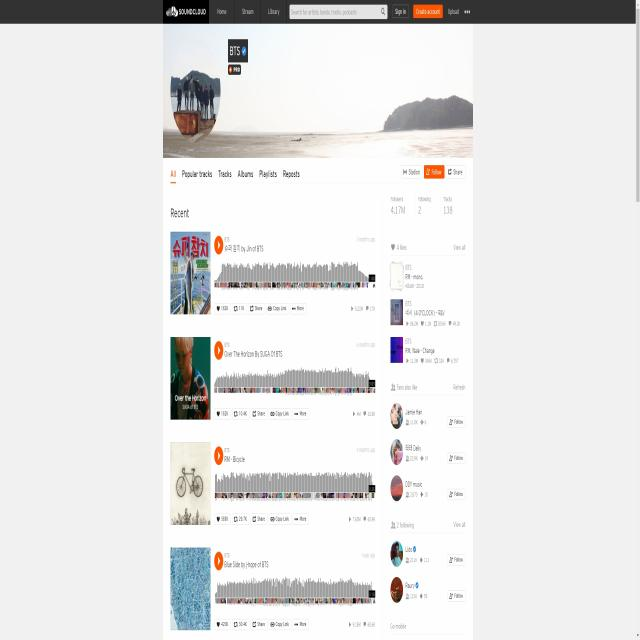menu-bar: (391, 3, 473, 19)
search: (287, 2, 388, 23)
side-panel: (383, 180, 472, 640)
tab-bar: (167, 166, 305, 184)
